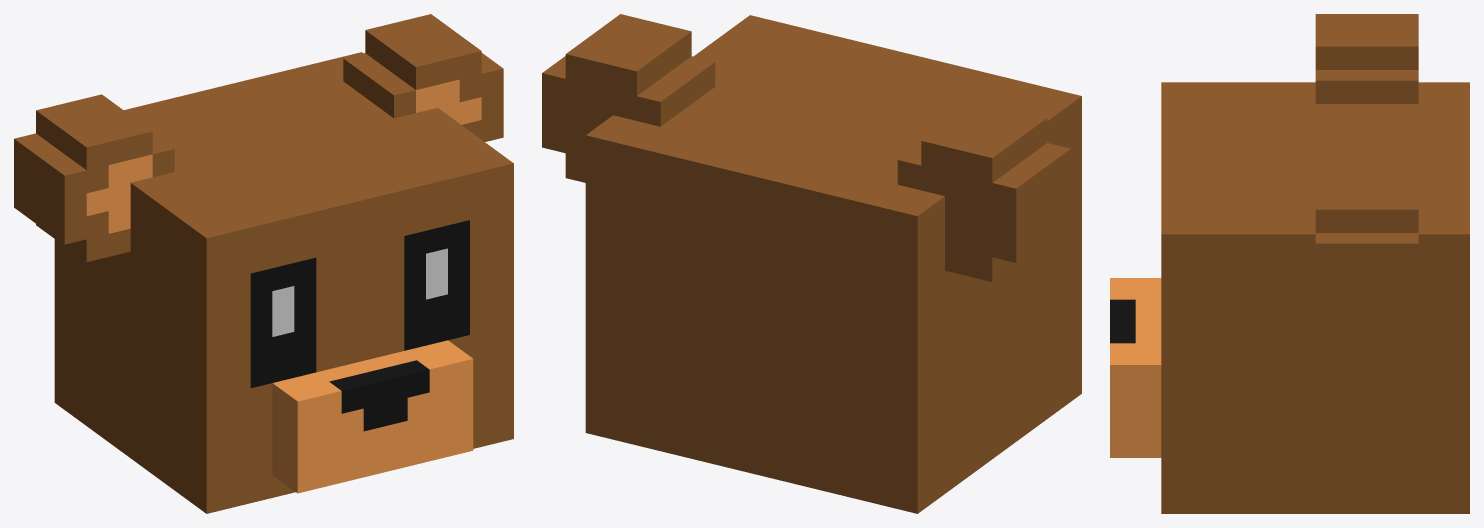
Rendered from head.glb.
The picture shows the model from 3 angles, left to right: view 1: azimuth 30°, elevation 25°; view 2: azimuth 150°, elevation 25°; view 3: azimuth 270°, elevation 25°; orthographic projection. The views are drawn at different scales.
Visible parts, largest first — view 1: Node1; view 2: Node1; view 3: Node1.
Boxes of the visible parts, box(x1,y1,x2,y2) form: Node1: box(14, 14, 513, 513); Node1: box(542, 14, 1081, 513); Node1: box(1110, 14, 1469, 513).
Size of the model in its own units: 2 by 1.4 by 1.4.
Materials: 1 (1 with a texture image).
